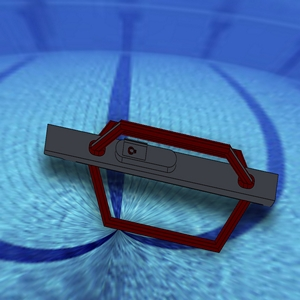submarine: (21, 82, 300, 281)
